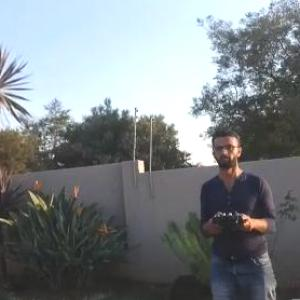follow: (192, 118, 279, 299)
